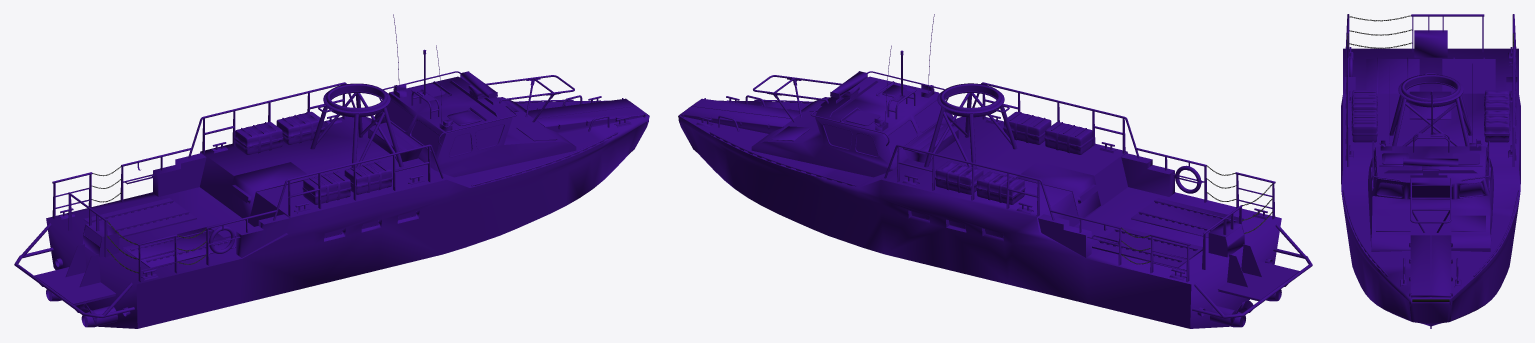
The model's file is boat.obj.
The picture shows the model from 3 angles, left to right: view 1: azimuth 30°, elevation 25°; view 2: azimuth 150°, elevation 25°; view 3: azimuth 270°, elevation 25°; orthographic projection. The views are drawn at different scales.
Visible parts, largest first — view 1: AM84_021_05, AM84_021_00; view 2: AM84_021_05, AM84_021_00; view 3: AM84_021_05, AM84_021_00, AM84_021_02.
Part boxes in pixels (box(x1,y1,x2,y2)): AM84_021_05: box(14, 14, 649, 328); AM84_021_00: box(386, 100, 503, 156); AM84_021_05: box(678, 14, 1312, 328); AM84_021_00: box(824, 100, 941, 156); AM84_021_05: box(1341, 14, 1520, 328); AM84_021_00: box(1373, 159, 1488, 197); AM84_021_02: box(1349, 15, 1412, 48).
Size of the model in its own units: 2301214 by 817796 by 624521.
